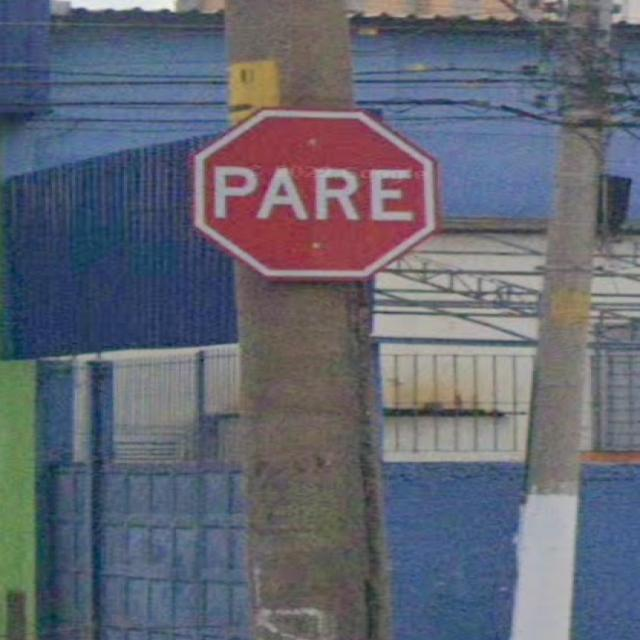stop: (184, 87, 459, 310)
